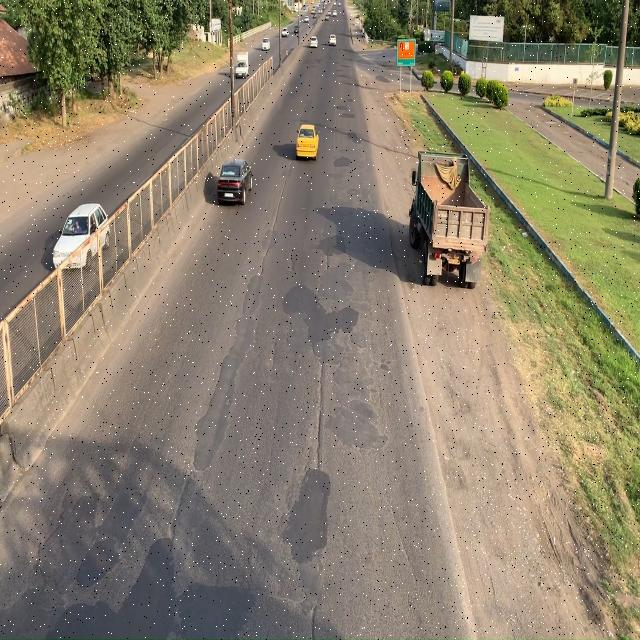Truck: (404, 142, 488, 280)
cars: (53, 205, 109, 272), (216, 161, 253, 205), (294, 123, 319, 161)
